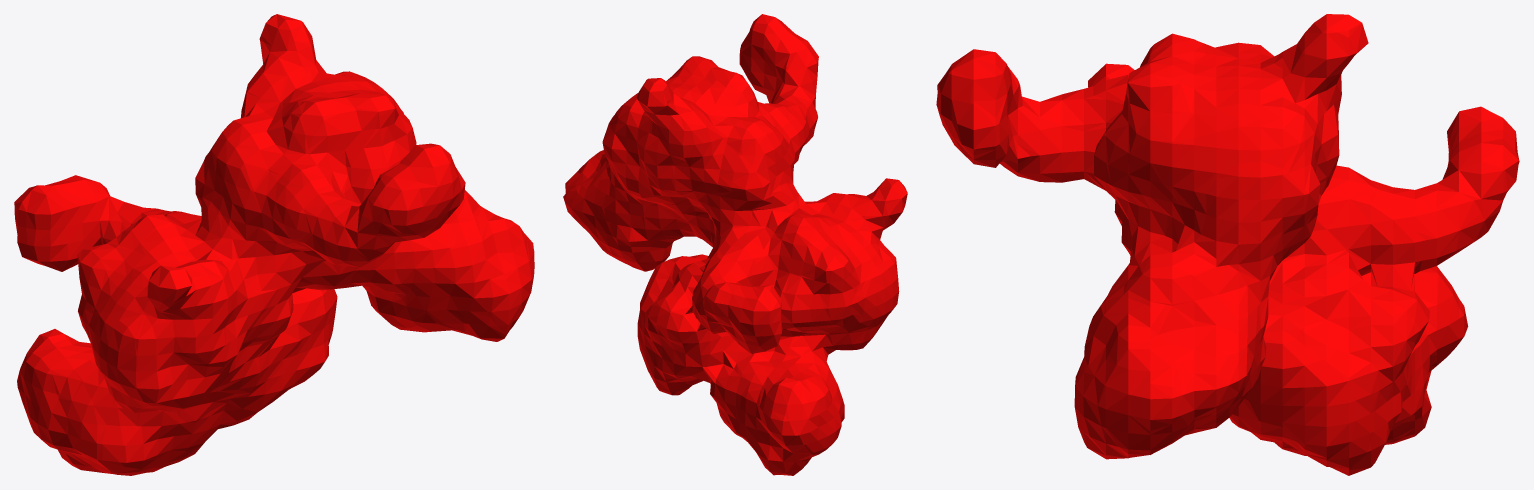
The model's file is degP_coarse.dae.
The picture shows the model from 3 angles, left to right: view 1: azimuth 30°, elevation 25°; view 2: azimuth 150°, elevation 25°; view 3: azimuth 270°, elevation 25°; orthographic projection. The views are drawn at different scales.
Parts seen in each view (by area): view 1: degP; view 2: degP; view 3: degP.
Part boxes in pixels (x1,y1,x2,y2): degP: (14,14,534,475); degP: (563,14,907,475); degP: (936,14,1519,475).
Bounding box in the file's own units: 96.41 × 94.89 × 93.46.
